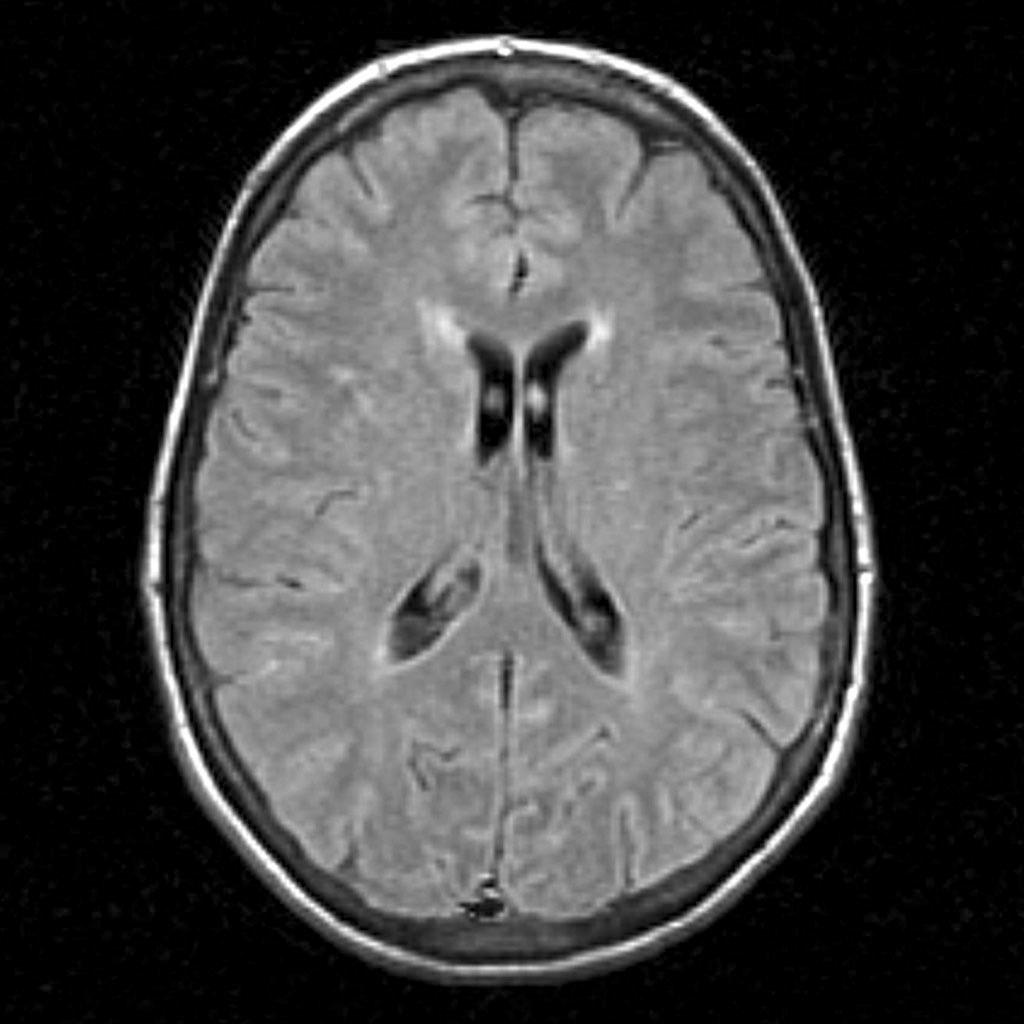Normal_Brain: (5, 1, 1024, 1024)
